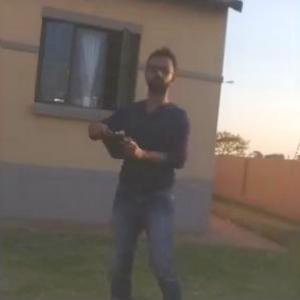follow: (86, 44, 192, 299)
